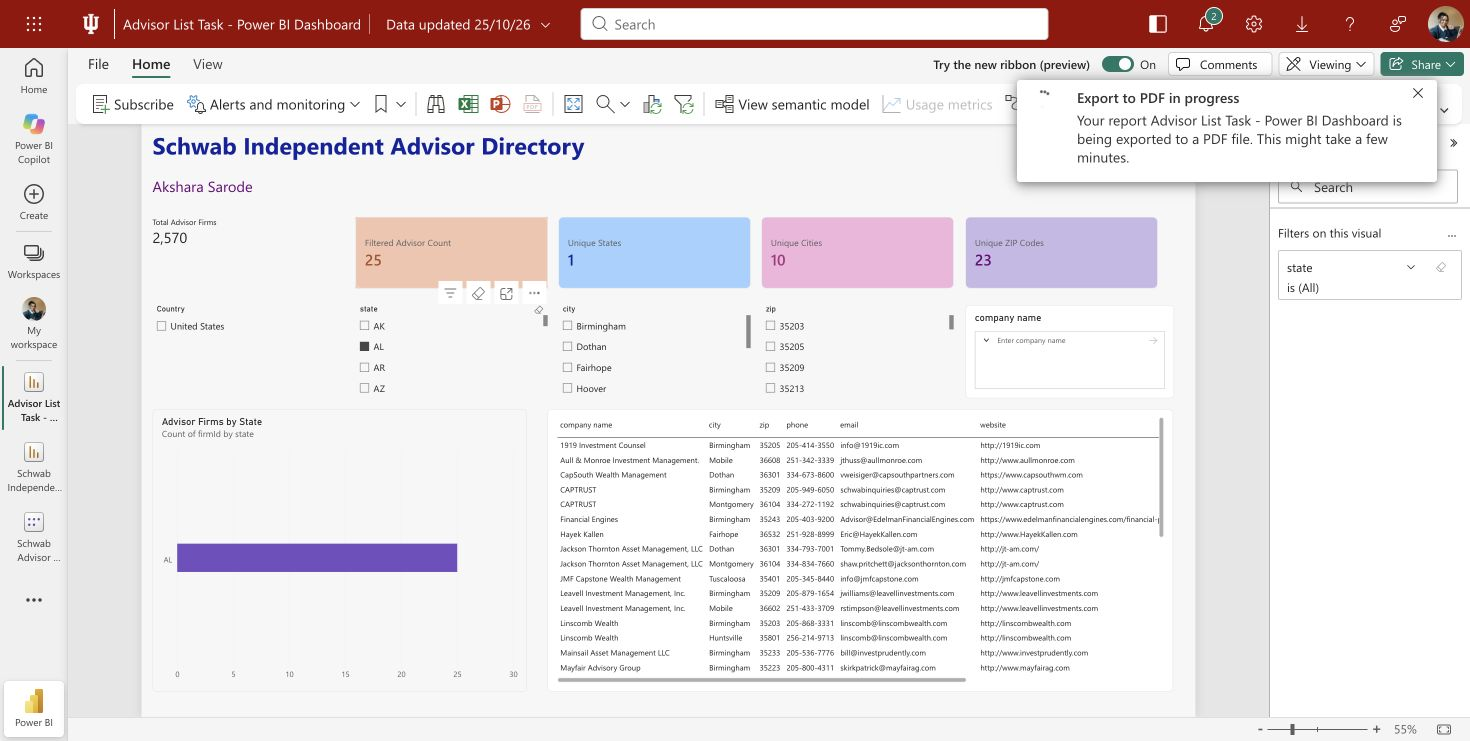

Layout of this report page (visuals, bound fields, positions):
{"tool":"powerbi","page":{"name":"Page 1","canvas":[1920,1080],"ordinal":0},"visuals":[{"type":"slicer","fields":{"Values":["Advisor Locations.Country"]},"box":[20,330,350,170],"z":0},{"type":"slicer","fields":{"Values":["Advisor Locations.state"]},"box":[390,330,350,170],"z":1000},{"type":"slicer","fields":{"Values":["Advisor Locations.city"]},"box":[760,330,350,170],"z":2000},{"type":"slicer","fields":{"Values":["Advisor Locations.zip"]},"box":[1130,330,350,170],"z":3000},{"type":"textSlicer","fields":{"Values":["Advisor Locations.company name"]},"box":[1500,330,380,170],"z":4000},{"type":"tableEx","fields":{"Values":["Advisor Locations.company name","Advisor Locations.city","Advisor Locations.zip","Advisor Locations.phone","Advisor Locations.email","Advisor Locations.website","Advisor Locations.profile url","Advisor Locations.state"]},"box":[739.2,519.5,1139.6,514.9],"z":5000},{"type":"cardVisual","fields":{"Data":["Count(Advisor Locations.state)"]},"box":[760,170,350,130],"z":6000},{"type":"cardVisual","fields":{"Data":["Count(Advisor Locations.city)"]},"box":[1130,170,350,130],"z":7000},{"type":"cardVisual","fields":{"Data":["Count(Advisor Locations.zip)"]},"box":[1500,170,350,130],"z":8000},{"type":"cardVisual","fields":{"Data":["Count(Advisor Locations.firmId)"]},"box":[390,170,350,130],"z":9000},{"type":"textbox","box":[20.4,170,350.2,122.6],"z":10000},{"type":"textbox","box":[20,10,1520,90],"z":11000},{"type":"textbox","box":[20,95,1520,60],"z":12000},{"type":"clusteredBarChart","title":"Advisor Firms by State","fields":{"Category":["Advisor Locations.state"],"Y":["Count(Advisor Locations.firmId)"]},"box":[20.6,519.5,682,514.9],"z":13000}]}

Visuals, with their boxes on the page's 1920x1080 design canvas (x1, y1, x2, y2). These are canvas units, not pixel positions in the 1470x741 screenshot, which may show the page scaled, cropped or inside an application window:
slicer - Advisor Locations.Country: {"x1": 20, "y1": 330, "x2": 370, "y2": 500}
slicer - Advisor Locations.state: {"x1": 390, "y1": 330, "x2": 740, "y2": 500}
slicer - Advisor Locations.city: {"x1": 760, "y1": 330, "x2": 1110, "y2": 500}
slicer - Advisor Locations.zip: {"x1": 1130, "y1": 330, "x2": 1480, "y2": 500}
textSlicer - Advisor Locations.company name: {"x1": 1500, "y1": 330, "x2": 1880, "y2": 500}
tableEx - Advisor Locations.company name x Advisor Locations.city: {"x1": 739, "y1": 520, "x2": 1879, "y2": 1034}
cardVisual - Count(Advisor Locations.state): {"x1": 760, "y1": 170, "x2": 1110, "y2": 300}
cardVisual - Count(Advisor Locations.city): {"x1": 1130, "y1": 170, "x2": 1480, "y2": 300}
cardVisual - Count(Advisor Locations.zip): {"x1": 1500, "y1": 170, "x2": 1850, "y2": 300}
cardVisual - Count(Advisor Locations.firmId): {"x1": 390, "y1": 170, "x2": 740, "y2": 300}
textbox: {"x1": 20, "y1": 170, "x2": 371, "y2": 293}
textbox: {"x1": 20, "y1": 10, "x2": 1540, "y2": 100}
textbox: {"x1": 20, "y1": 95, "x2": 1540, "y2": 155}
"Advisor Firms by State" clusteredBarChart: {"x1": 21, "y1": 520, "x2": 703, "y2": 1034}
